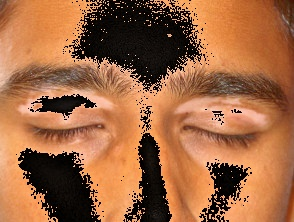vitiligo: (153, 60, 294, 195), (8, 74, 140, 178), (0, 10, 27, 193)
